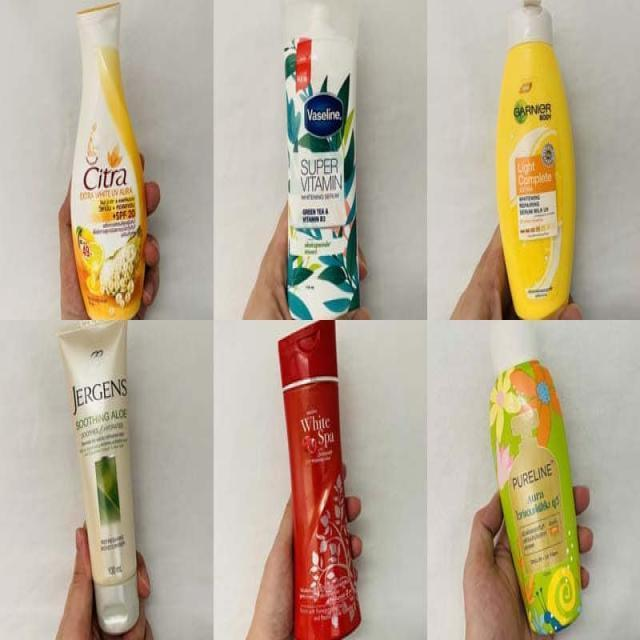Squeeze Tube: (273, 317, 365, 639), (491, 325, 583, 636), (494, 9, 581, 321), (283, 6, 364, 320), (68, 2, 145, 321), (68, 321, 143, 636)
